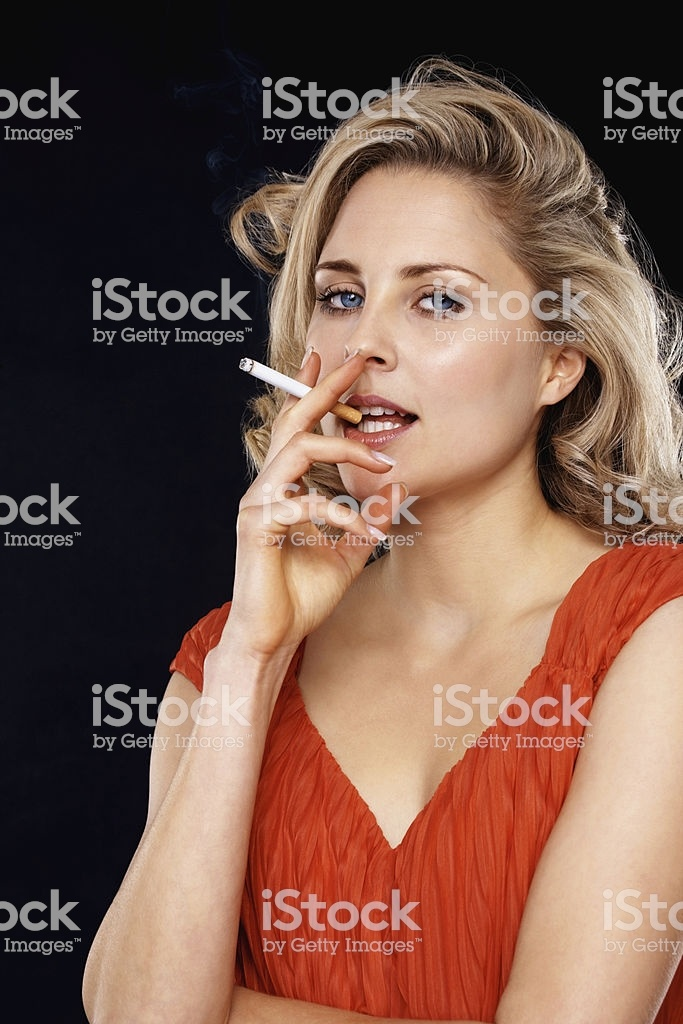sigaretta: (244, 358, 366, 427)
